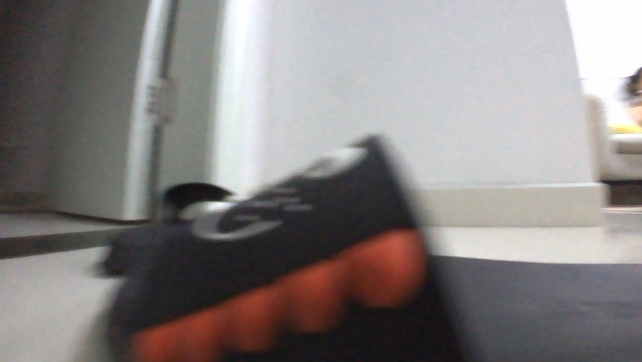door_anno: (42, 0, 252, 230)
